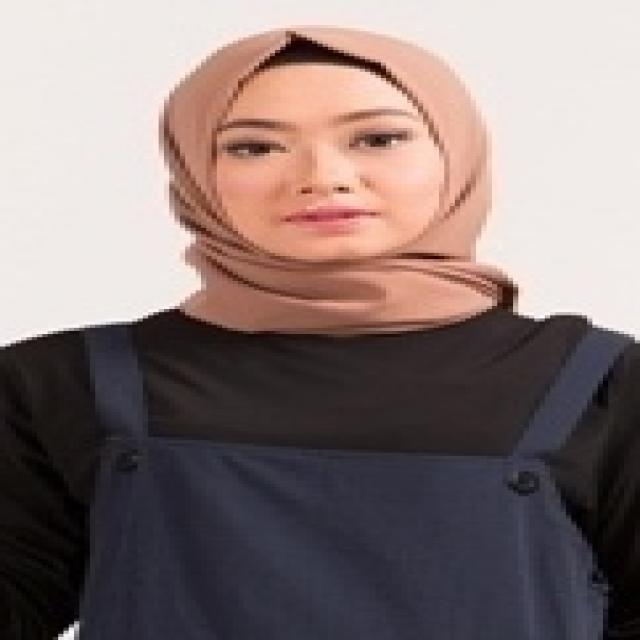head: (121, 27, 517, 266)
